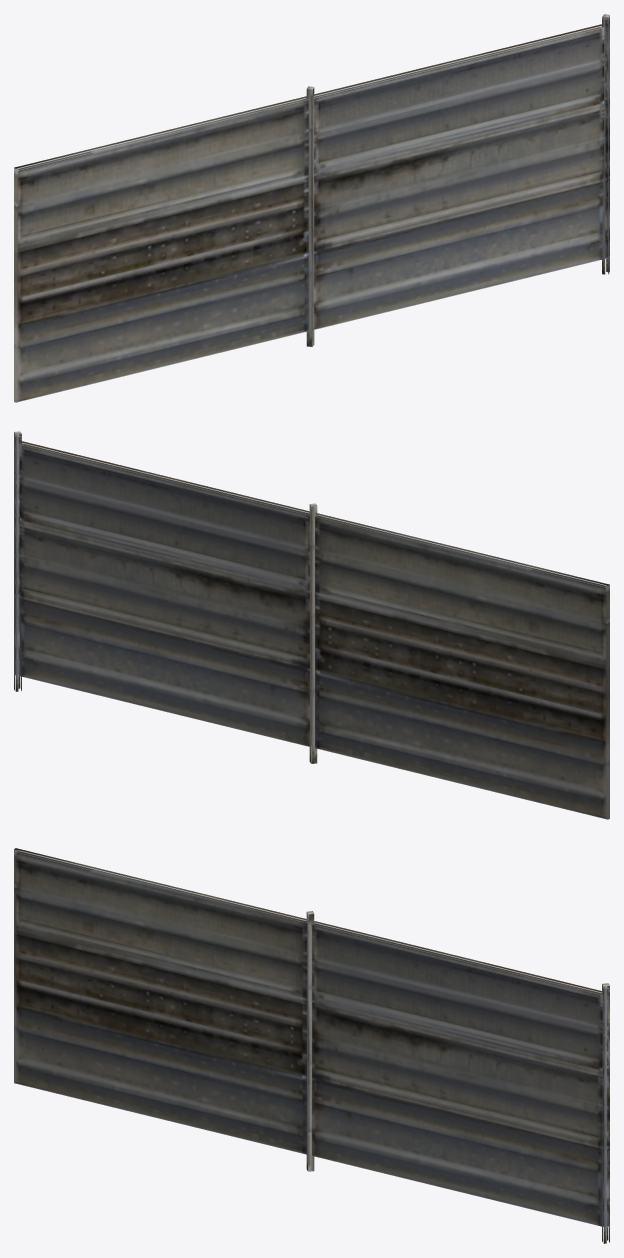
The model's file is Fence03Medium.obj.
3 views of the same model, one above another, from view 1: azimuth 30°, elevation 25°; view 2: azimuth 150°, elevation 25°; view 3: azimuth 330°, elevation 25° (orthographic).
Parts seen in each view (by area): view 1: Fence03, Fence03Pole02, Fence03Pole03; view 2: Fence03, Fence03Pole02, Fence03Pole03; view 3: Fence03, Fence03Pole02, Fence03Pole03.
Part boxes in pixels (left/top/right/bottom): Fence03: left=14, top=24, right=606, bottom=402; Fence03Pole02: left=602, top=14, right=609, bottom=274; Fence03Pole03: left=306, top=86, right=314, bottom=346; Fence03: left=19, top=441, right=609, bottom=819; Fence03Pole02: left=14, top=431, right=21, bottom=691; Fence03Pole03: left=309, top=503, right=317, bottom=763; Fence03: left=14, top=848, right=602, bottom=1226; Fence03Pole02: left=602, top=983, right=609, bottom=1243; Fence03Pole03: left=306, top=911, right=314, bottom=1171.
Size of the model in its own units: 8.05 by 3.33 by 0.1061.
